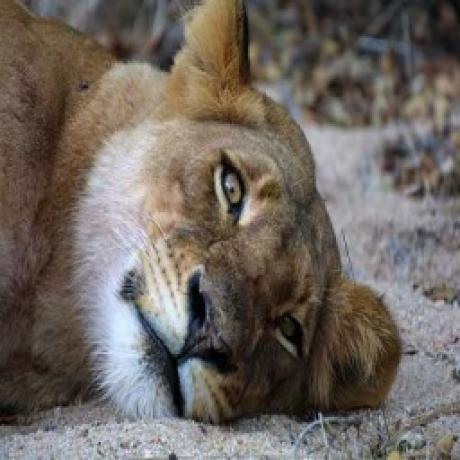Lion: (0, 0, 402, 424)
